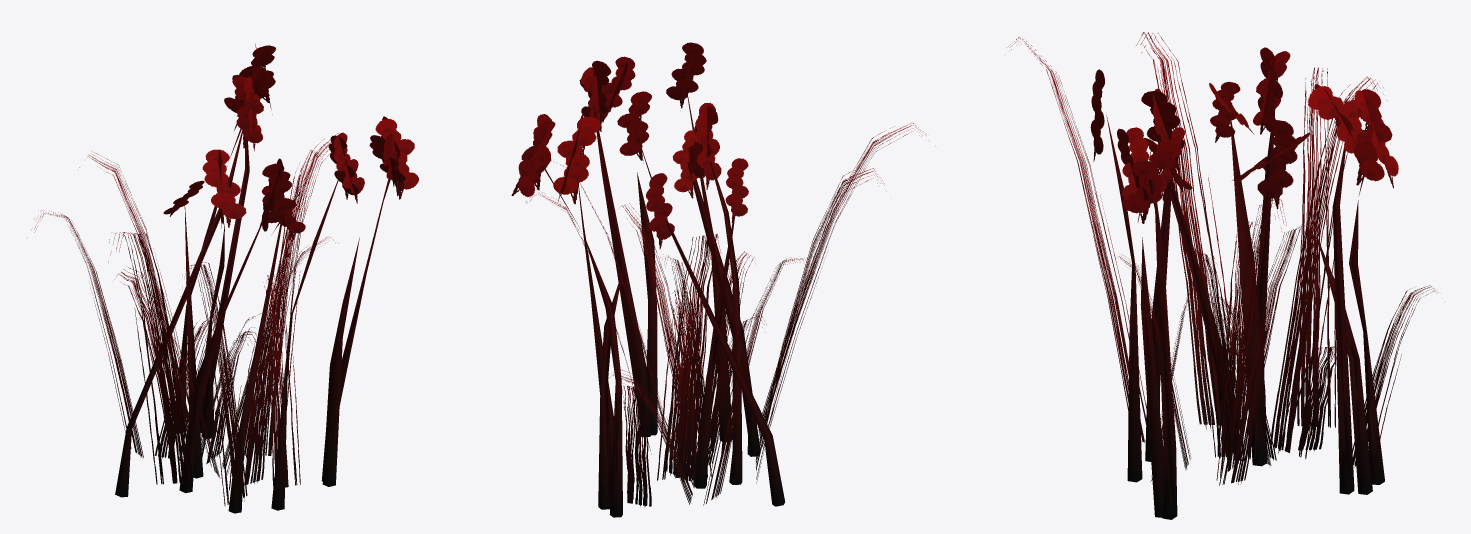
The model's file is plant_highlands_wildflower_a_lod2.glb.
3 renders of one model, left to right at view 1: azimuth 30°, elevation 25°; view 2: azimuth 150°, elevation 25°; view 3: azimuth 270°, elevation 25°, orthographic. The views are drawn at different scales.
Parts seen in each view (by area): view 1: plant_highlands_wildflower_a; view 2: plant_highlands_wildflower_a; view 3: plant_highlands_wildflower_a.
Boxes of the visible parts, left/top/right/bottom form: plant_highlands_wildflower_a: left=34, top=43, right=418, bottom=513; plant_highlands_wildflower_a: left=511, top=42, right=926, bottom=517; plant_highlands_wildflower_a: left=1008, top=32, right=1436, bottom=519.
Bounding box in the file's own units: 0.3526 × 0.3892 × 0.3502.
Materials: 1 (1 with a texture image).
